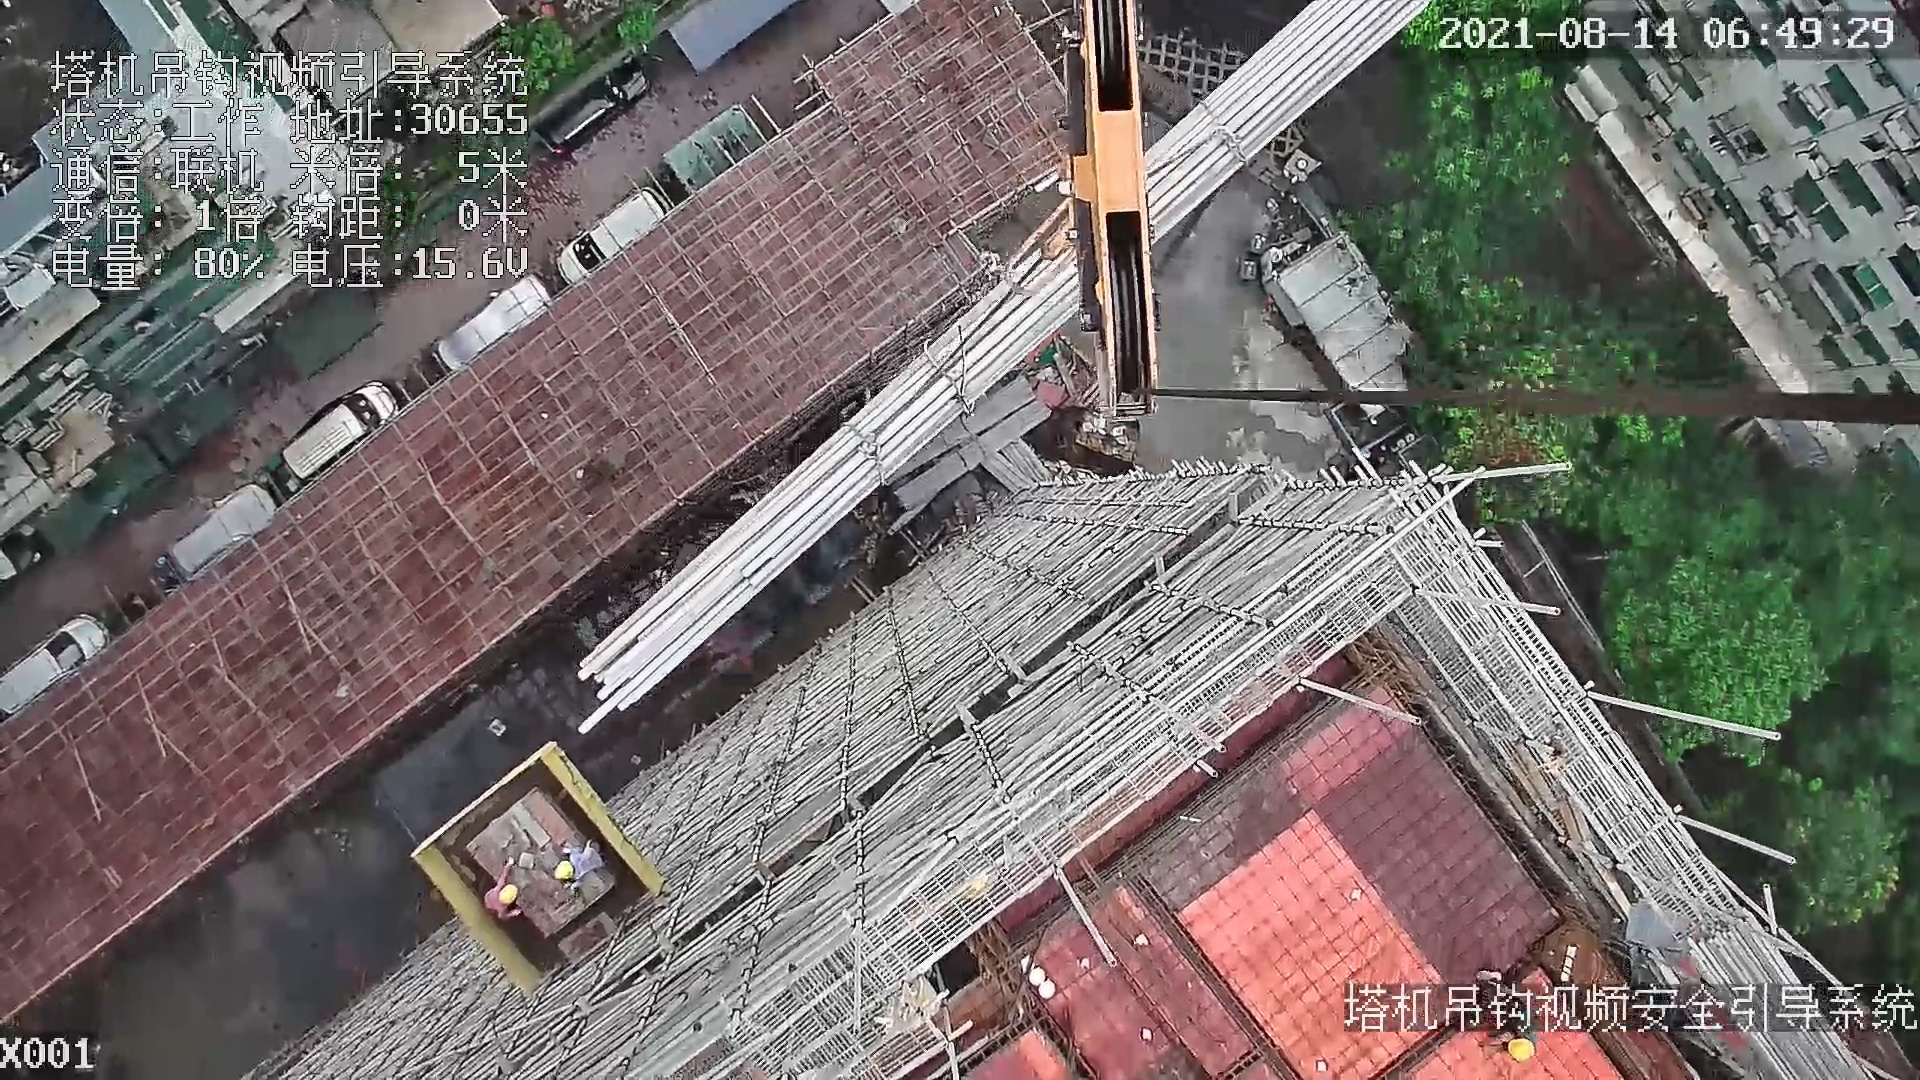helmet: (493, 880, 521, 907), (553, 859, 578, 885)
hook: (1031, 1, 1164, 422)
person: (483, 856, 529, 921), (554, 850, 601, 895), (1501, 1038, 1550, 1064)
